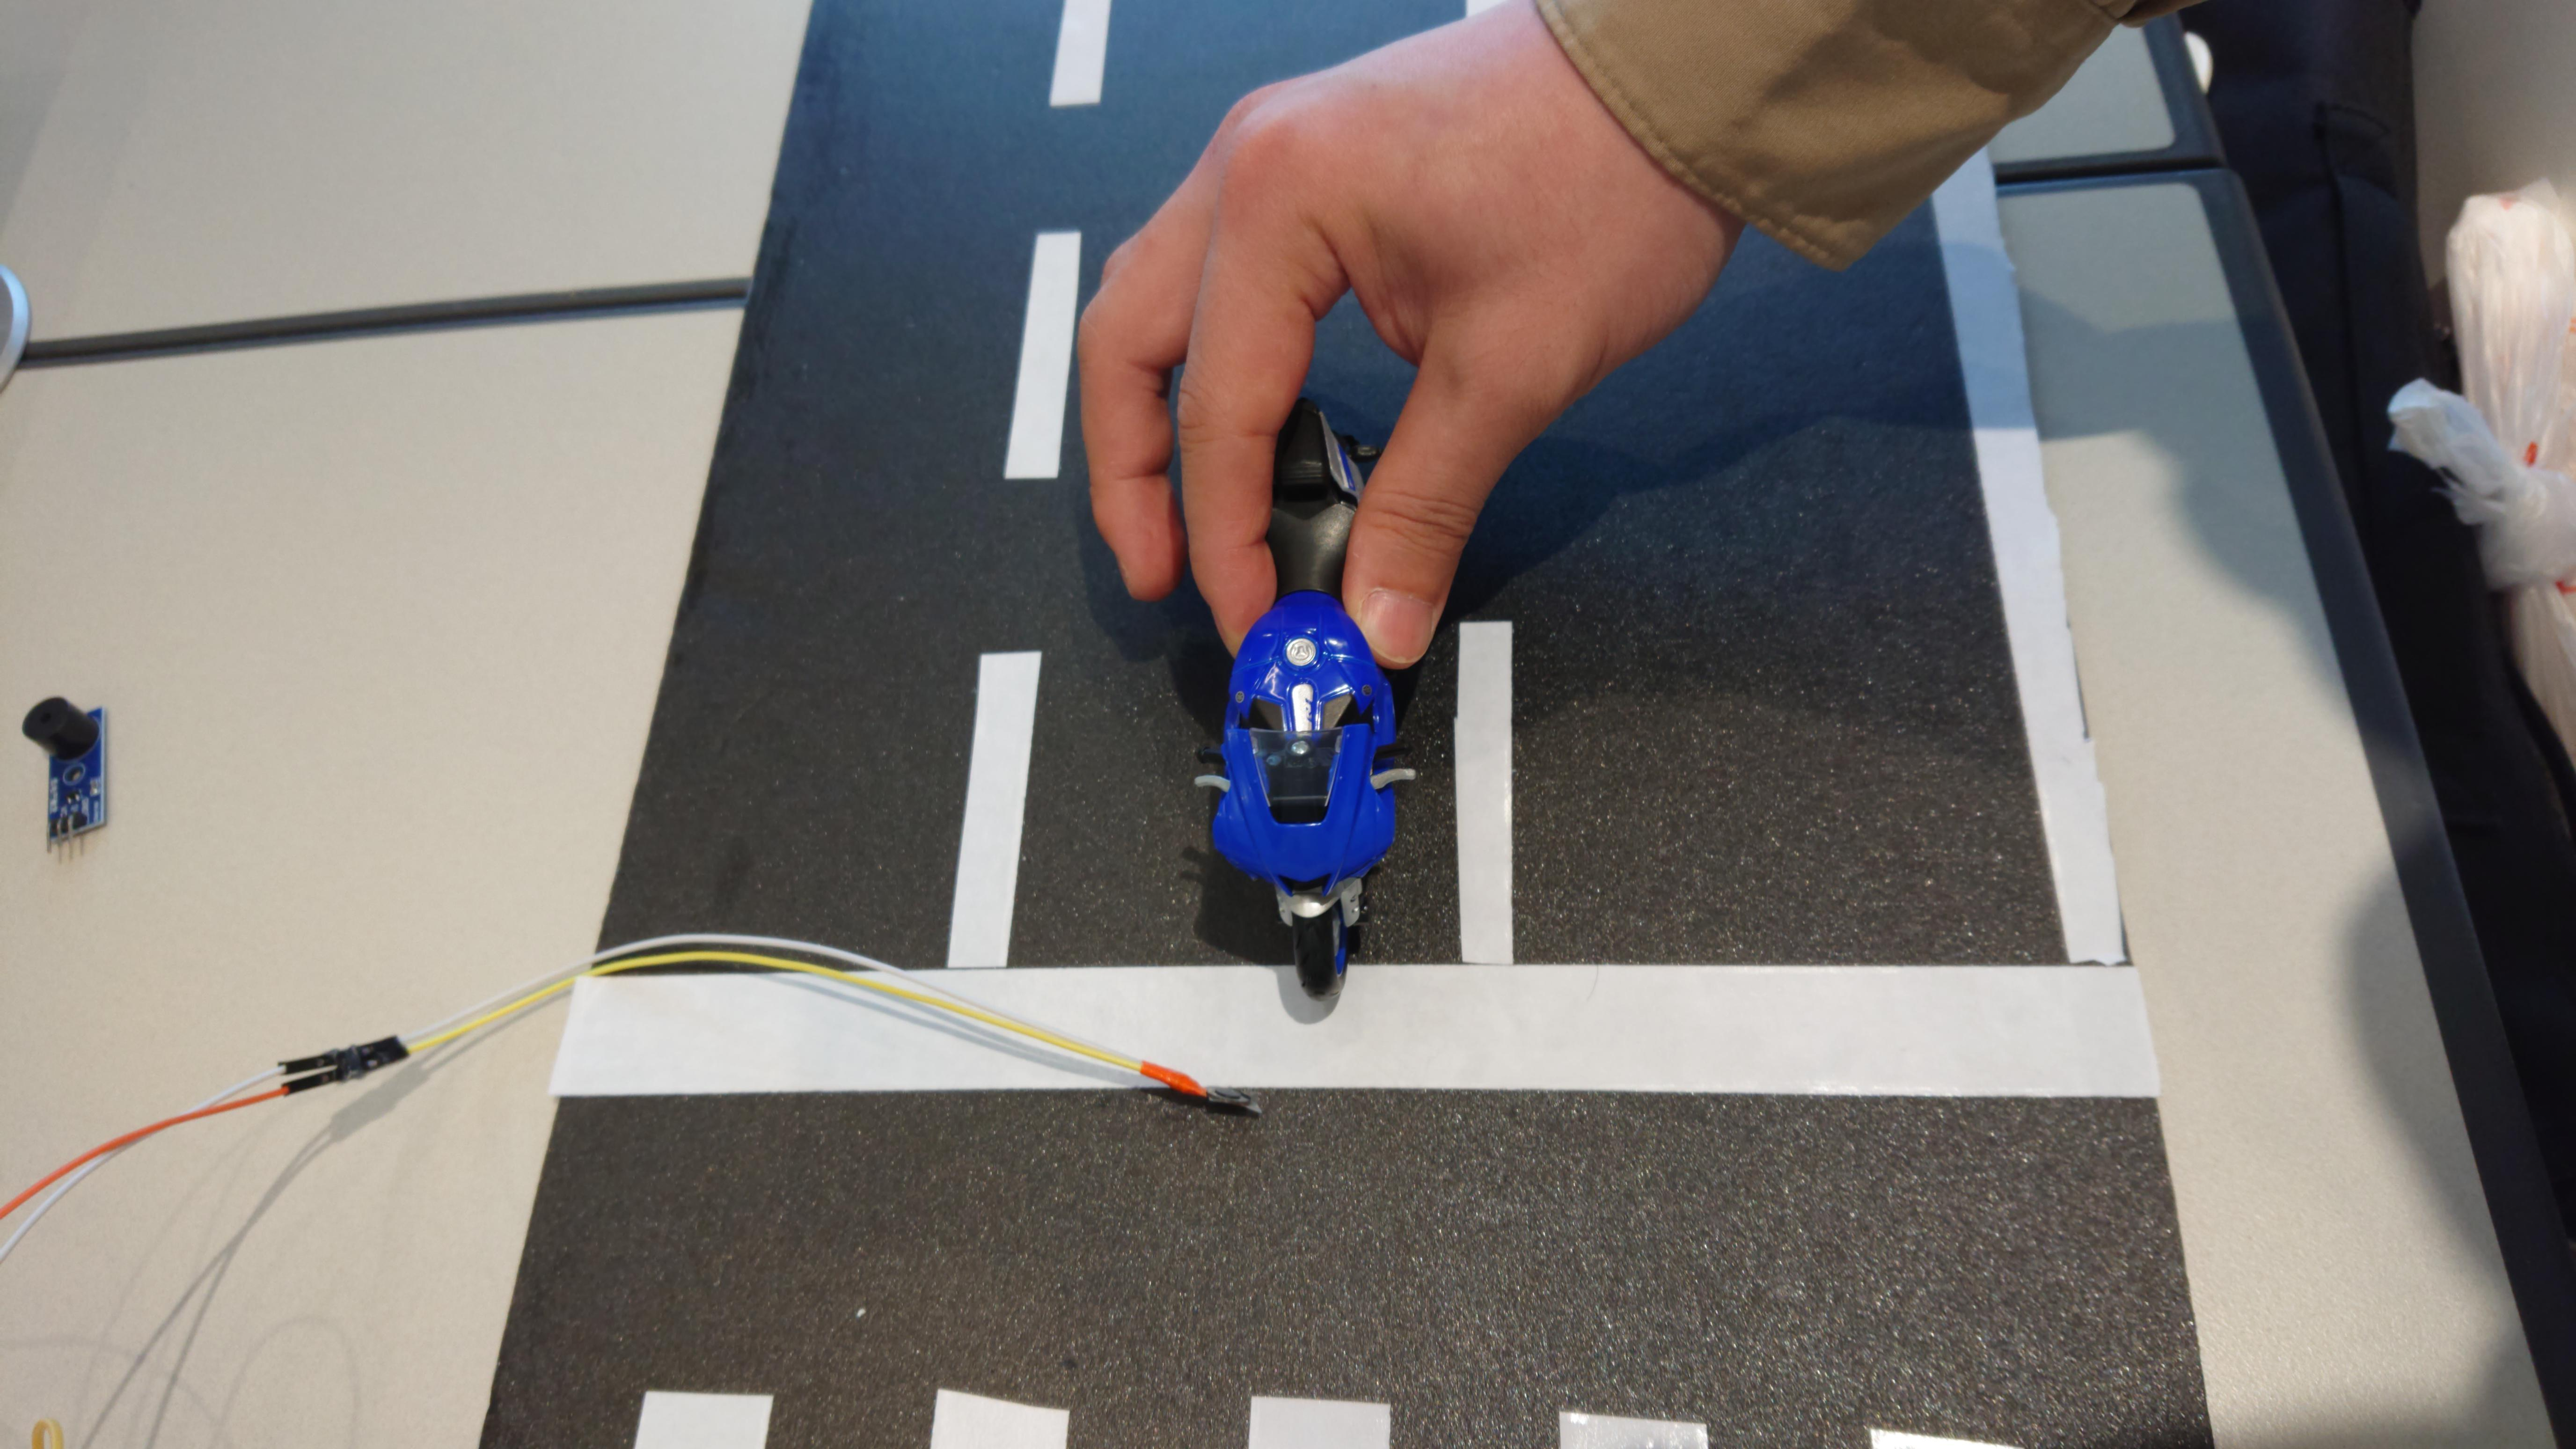Motorcycle: (1187, 579, 1437, 1000)
